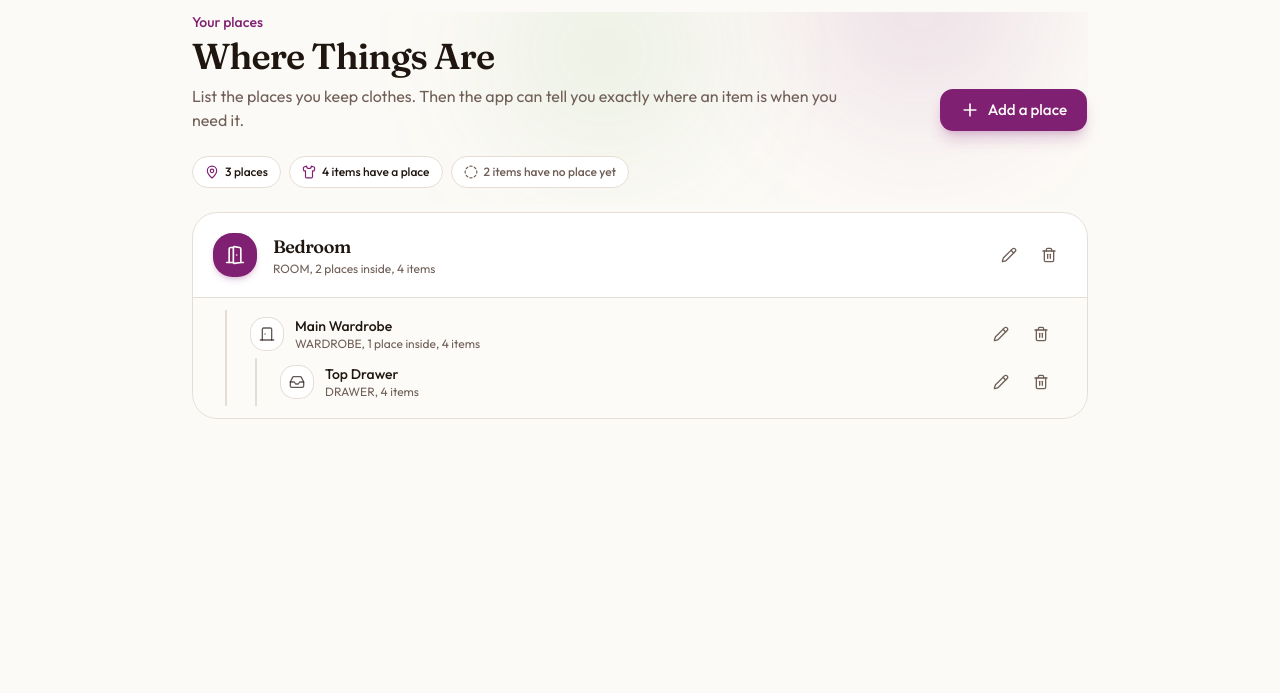
StoragePage › opens the change form in place of the row
What coordinates should you click on to do the following:
click the 5th button named "Change Top Drawer"
I would click on:
 (1001, 382)
Its box is [983,364,1019,400].
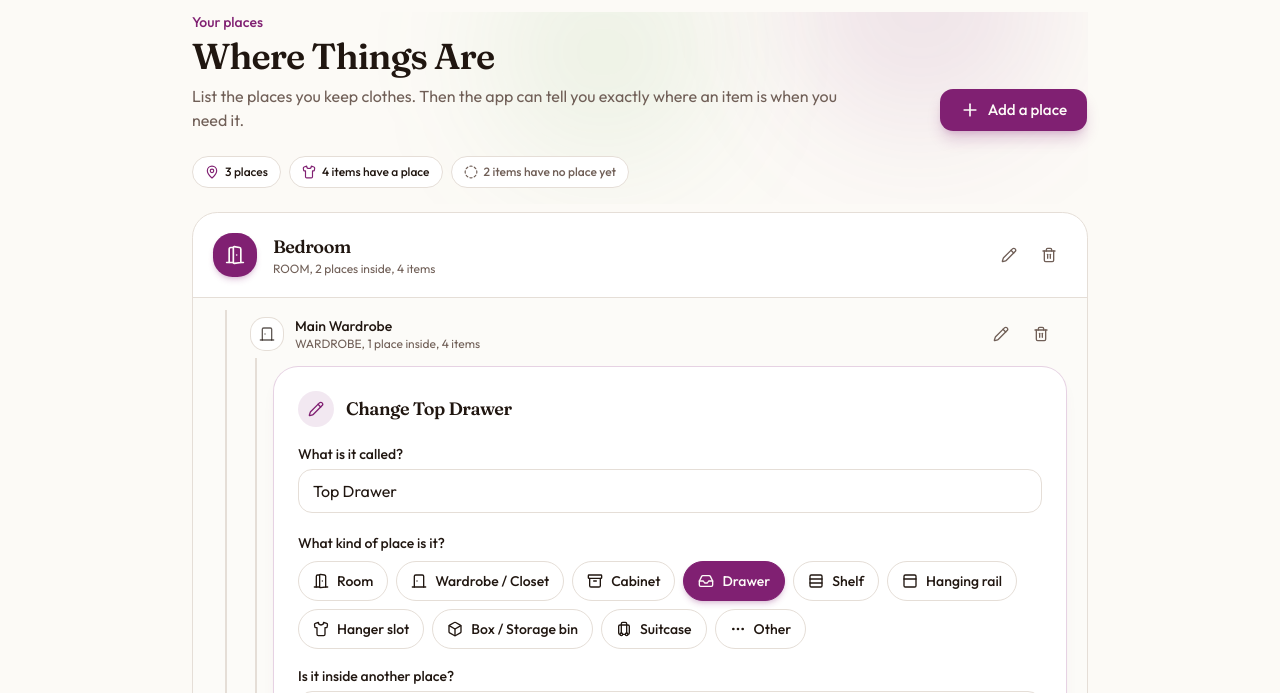
Expected: the heading "Change Top Drawer" is shown, [298,391,512,427]
Expected: the field labelled "What is it called?" holds "Top Drawer", [298,469,1042,513]
